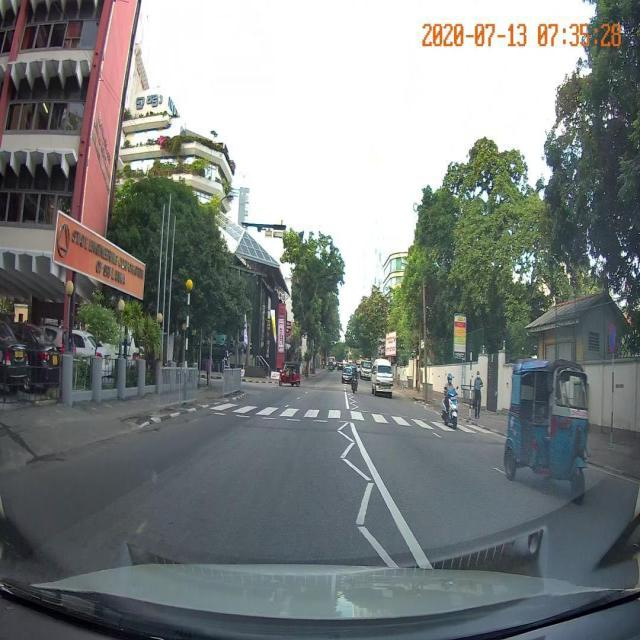Liniya 1: (350, 422, 436, 569), (355, 525, 402, 567), (213, 412, 352, 423), (354, 482, 375, 524), (341, 458, 373, 480), (339, 441, 357, 459), (337, 430, 355, 441), (336, 422, 350, 430), (344, 391, 350, 409), (431, 431, 444, 439)
Perehod: (208, 401, 500, 434)
